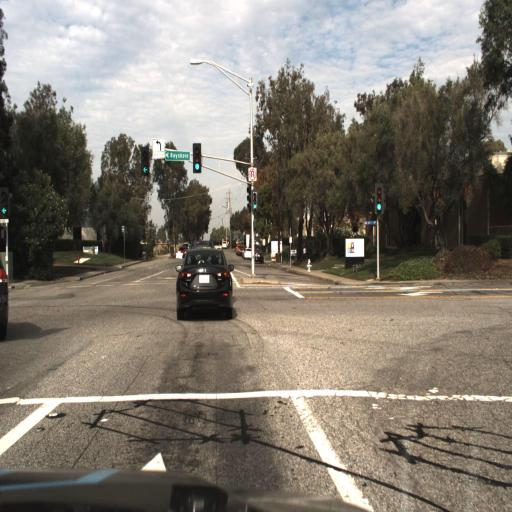car: (175, 242, 233, 325), (250, 244, 265, 267)
trafficLight-Green: (372, 182, 384, 218), (193, 146, 203, 175), (250, 186, 259, 212)
trafficLight-GreenLeft: (141, 146, 151, 179)
